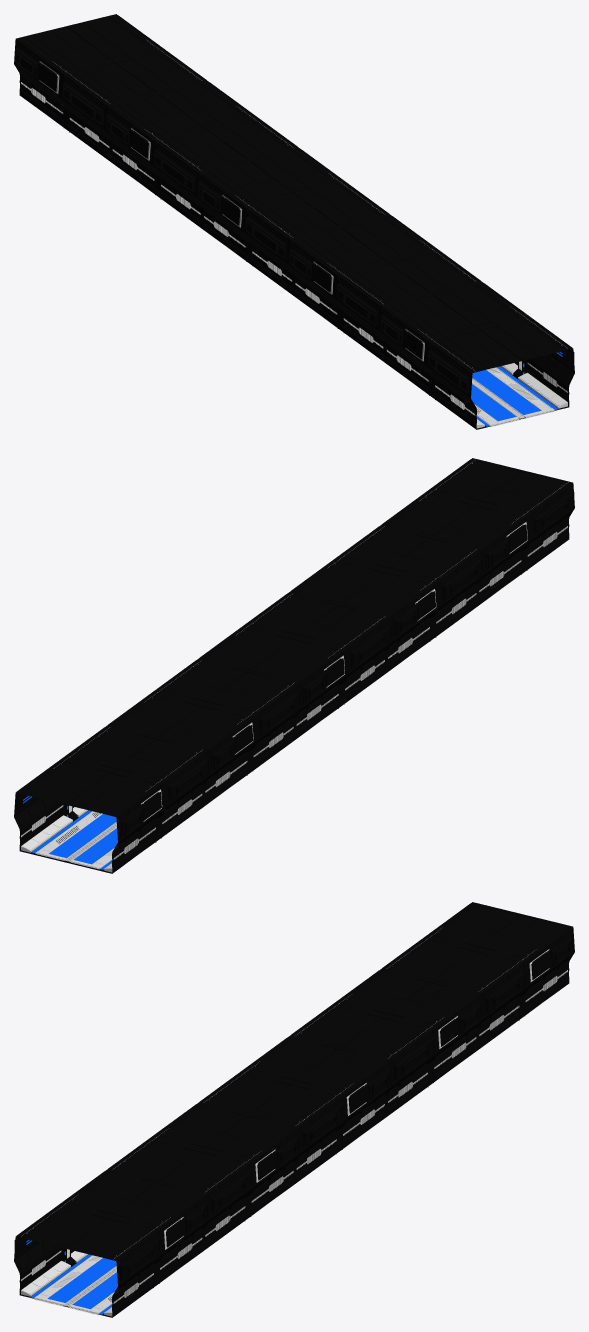
File: Sci Fi Corridor.fbx
3 renders of one model, top to bottom at view 1: azimuth 30°, elevation 25°; view 2: azimuth 150°, elevation 25°; view 3: azimuth 330°, elevation 25°, orthographic.
Parts seen in each view (by area): view 1: Corridor_3, Corridor_11, Corridor_9, Corridor_5, Corridor_7, Floor; view 2: Corridor_11, Corridor_3, Corridor_9, Corridor_5, Corridor_7, Floor_2_6, Floor_1_5, Floor_5; view 3: Corridor_3, Corridor_11, Corridor_9, Corridor_5, Corridor_7, Floor.
Part boxes in pixels (x1=…): Corridor_3: x1=379, y1=281, x2=574, y2=429; Corridor_11: x1=14, y1=14, x2=207, y2=161; Corridor_9: x1=105, y1=81, x2=298, y2=228; Corridor_5: x1=288, y1=215, x2=481, y2=362; Corridor_7: x1=196, y1=148, x2=390, y2=295; Floor: x1=386, y1=350, x2=567, y2=428; Corridor_11: x1=14, y1=725, x2=209, y2=873; Corridor_3: x1=381, y1=458, x2=574, y2=605; Corridor_9: x1=107, y1=659, x2=300, y2=806; Corridor_5: x1=290, y1=525, x2=483, y2=672; Corridor_7: x1=198, y1=592, x2=392, y2=739; Floor_2_6: x1=49, y1=814, x2=117, y2=864; Floor_1_5: x1=35, y1=811, x2=116, y2=869; Floor_5: x1=21, y1=794, x2=202, y2=872; Corridor_3: x1=14, y1=1169, x2=209, y2=1317; Corridor_11: x1=381, y1=902, x2=574, y2=1049; Corridor_9: x1=290, y1=969, x2=483, y2=1116; Corridor_5: x1=107, y1=1103, x2=300, y2=1250; Corridor_7: x1=198, y1=1036, x2=392, y2=1183; Floor: x1=21, y1=1238, x2=202, y2=1316.
Size of the model in its own units: 3247 by 1709 by 23753.
